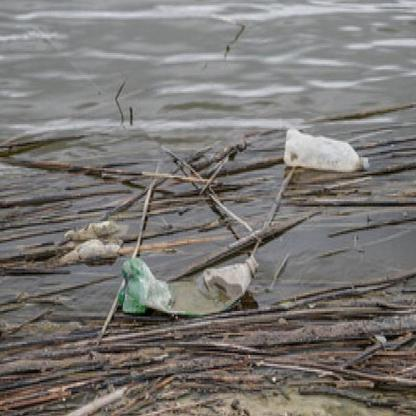plastic bag: (60, 223, 125, 257)
plastic bottle: (119, 257, 260, 315), (284, 126, 371, 175)
